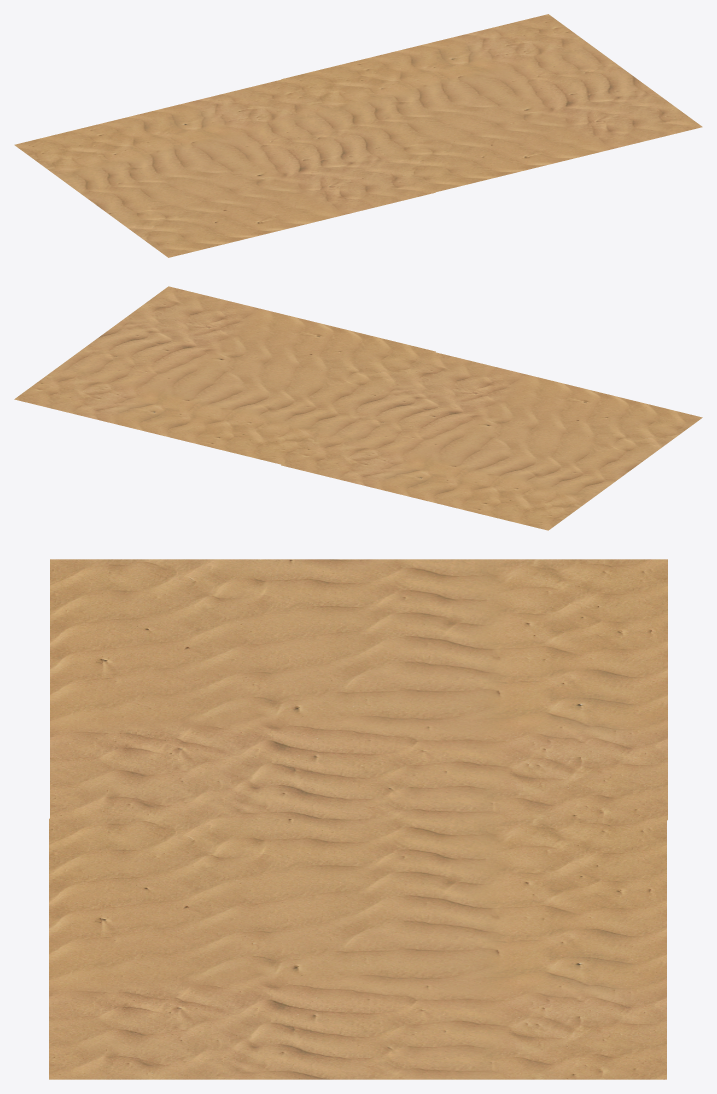
File: 6-s-ground-d.glb
3 renders of one model, top to bottom at view 1: azimuth 30°, elevation 25°; view 2: azimuth 150°, elevation 25°; view 3: azimuth 270°, elevation 25°, orthographic. The views are drawn at different scales.
Visible parts, largest first — view 1: Plane001, Plane001_02 - Default_0.001; view 2: Plane001, Plane001_02 - Default_0.001; view 3: Plane001, Plane001_02 - Default_0.001.
Part boxes in pixels (left/top/right/bottom): Plane001: left=281, top=14, right=702, bottom=192; Plane001_02 - Default_0.001: left=14, top=79, right=435, bottom=257; Plane001: left=14, top=286, right=435, bottom=464; Plane001_02 - Default_0.001: left=281, top=352, right=702, bottom=530; Plane001: left=49, top=818, right=666, bottom=1079; Plane001_02 - Default_0.001: left=50, top=559, right=667, bottom=820.
Size of the model in its own units: 22.28 by 0.0242 by 11.17.
Materials: 1 (1 with a texture image).
